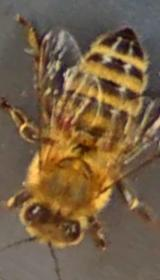varroa_mite: (49, 111, 77, 132)
